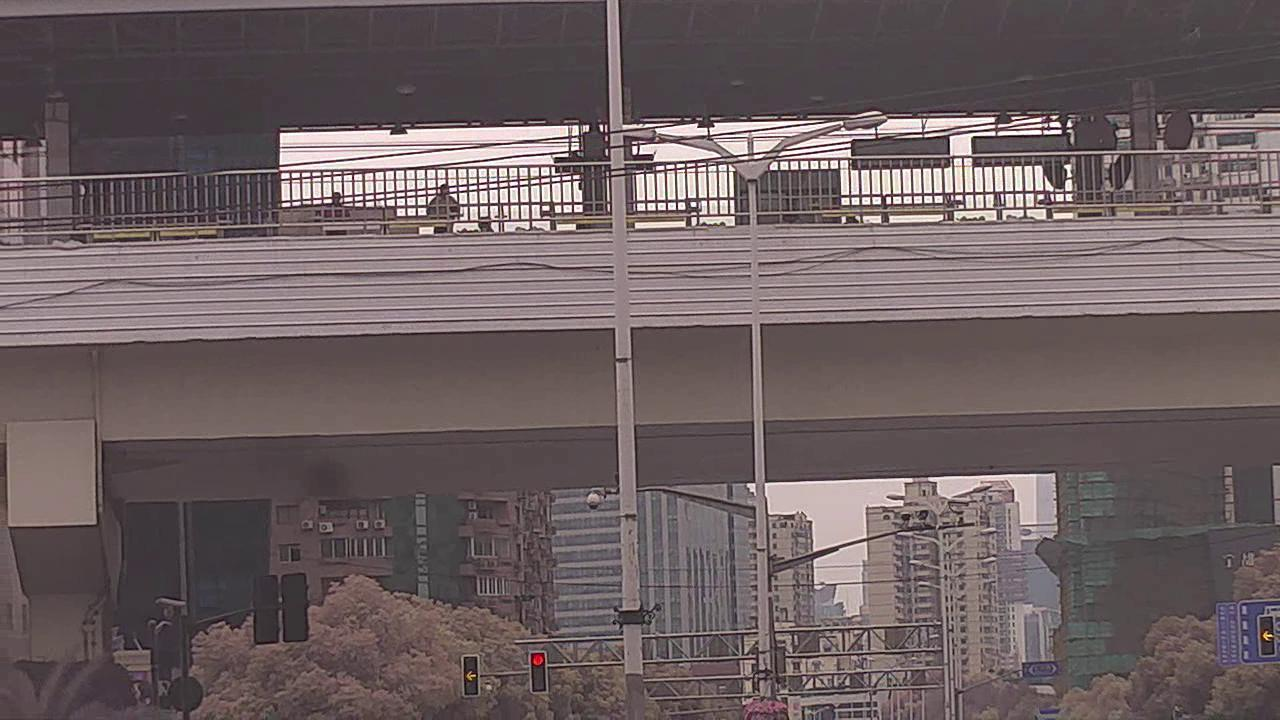traffic_light: (530, 651, 551, 694), (464, 652, 479, 698), (1259, 616, 1274, 656)
